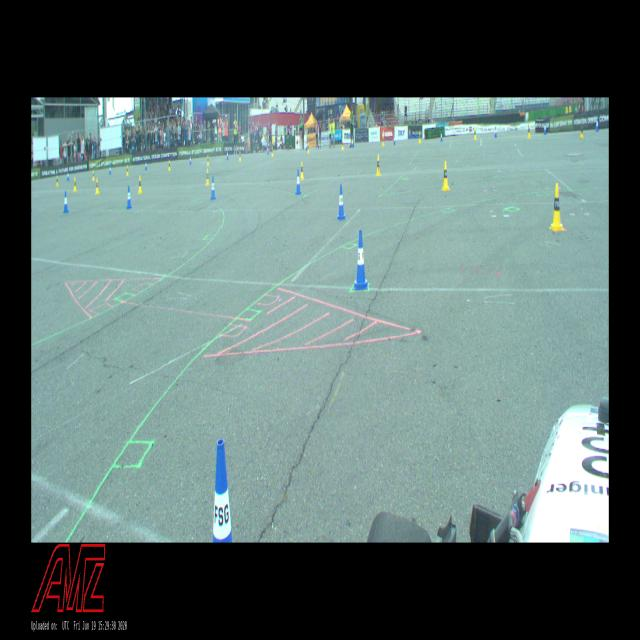blue_cone: (212, 438, 232, 541), (354, 231, 368, 290), (337, 185, 346, 220), (296, 169, 302, 194), (210, 176, 216, 200), (126, 186, 132, 209), (64, 193, 68, 213), (543, 122, 547, 135), (144, 160, 148, 170), (494, 126, 497, 138), (189, 155, 192, 165), (226, 150, 229, 160), (440, 131, 443, 141), (596, 118, 598, 132), (109, 162, 111, 175), (67, 170, 69, 181), (306, 141, 308, 150), (394, 136, 396, 144)
yellow_cone: (550, 183, 563, 231), (442, 161, 449, 190), (376, 154, 381, 176), (300, 160, 304, 180), (95, 178, 100, 194), (206, 168, 210, 186), (138, 176, 142, 193), (73, 177, 77, 191), (527, 125, 531, 138), (580, 123, 583, 139), (56, 174, 59, 186), (341, 138, 344, 150), (126, 165, 129, 176), (271, 146, 274, 157), (418, 132, 421, 143), (92, 170, 95, 180), (168, 160, 171, 170), (308, 142, 310, 154), (382, 135, 384, 147), (474, 127, 476, 139), (207, 155, 209, 166), (267, 145, 269, 156), (239, 151, 241, 161)
